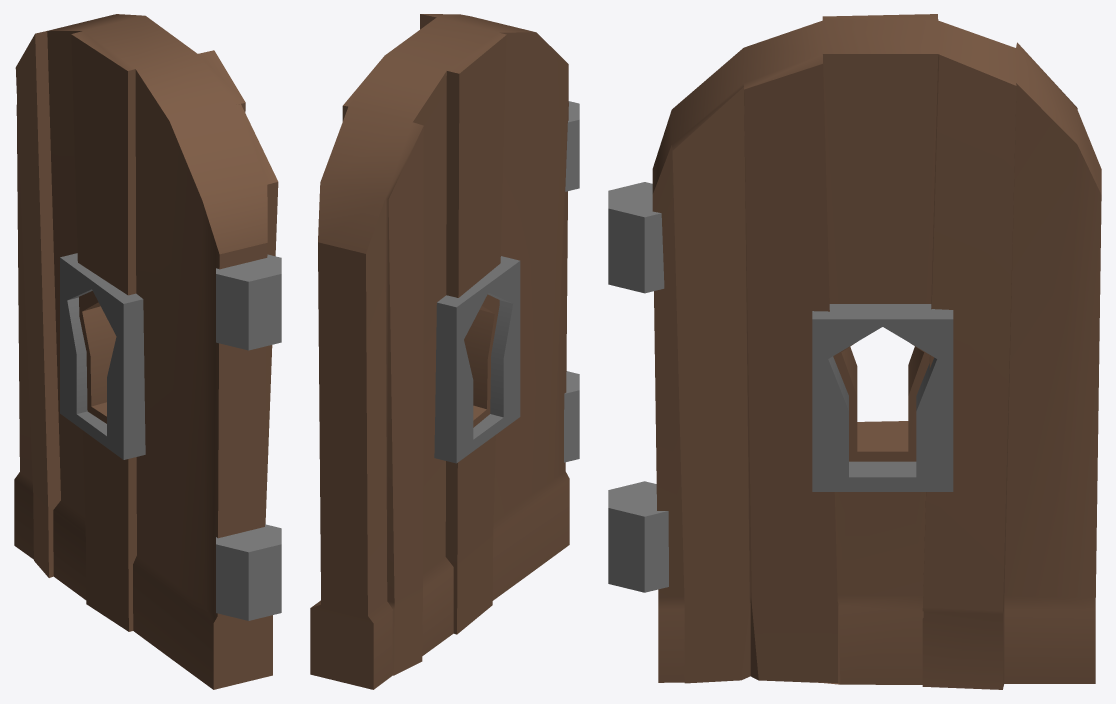
The model's file is Door.fbx.
The picture shows the model from 3 angles, left to right: view 1: azimuth 30°, elevation 25°; view 2: azimuth 150°, elevation 25°; view 3: azimuth 270°, elevation 25°; orthographic projection. The views are drawn at different scales.
Parts seen in each view (by area): view 1: pCube5; view 2: pCube5; view 3: pCube5.
Boxes of the visible parts, left/top/right/bottom form: pCube5: left=14, top=14, right=281, bottom=689; pCube5: left=310, top=14, right=579, bottom=689; pCube5: left=608, top=14, right=1101, bottom=689.
Bounding box in the file's own units: 0.7018 × 3.68 × 2.61.
